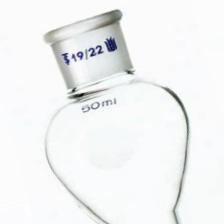Pear shaped flask: (15, 13, 185, 223)
